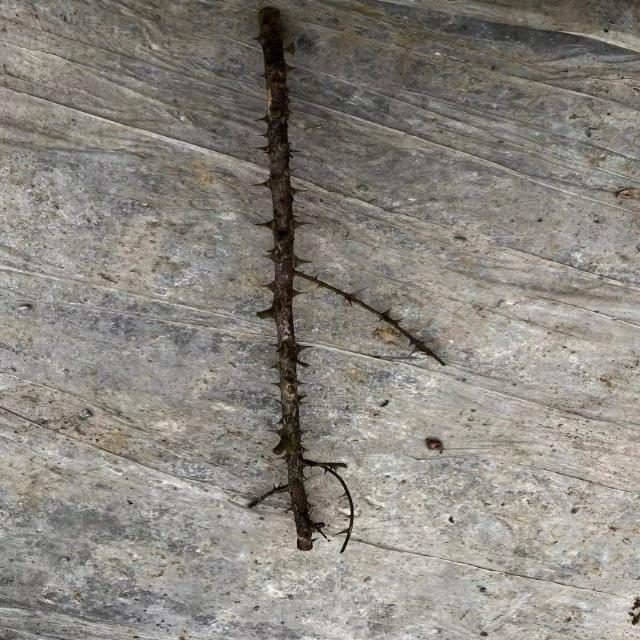branch: (259, 7, 315, 552)
